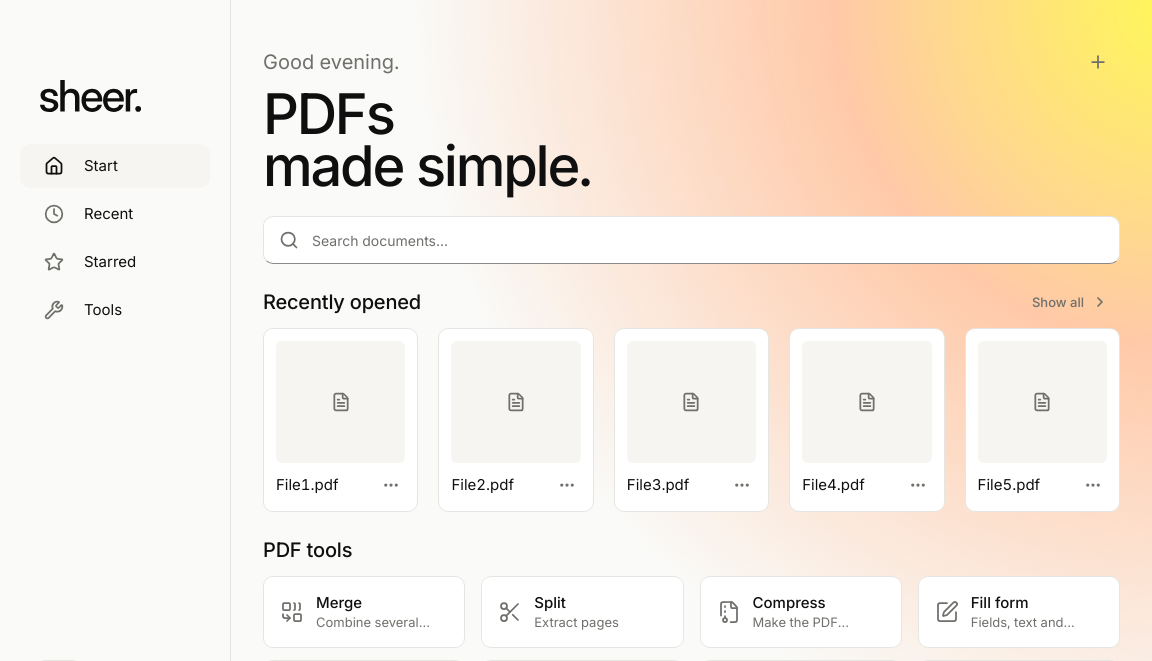
Test: Home › the Recent view lists every stored file, not only the first row
Check: the button "File1.pdf" is shown, box left=264, top=329, right=417, bottom=511
Click the button "Recent".
click(115, 214)  # box left=20, top=192, right=210, bottom=236
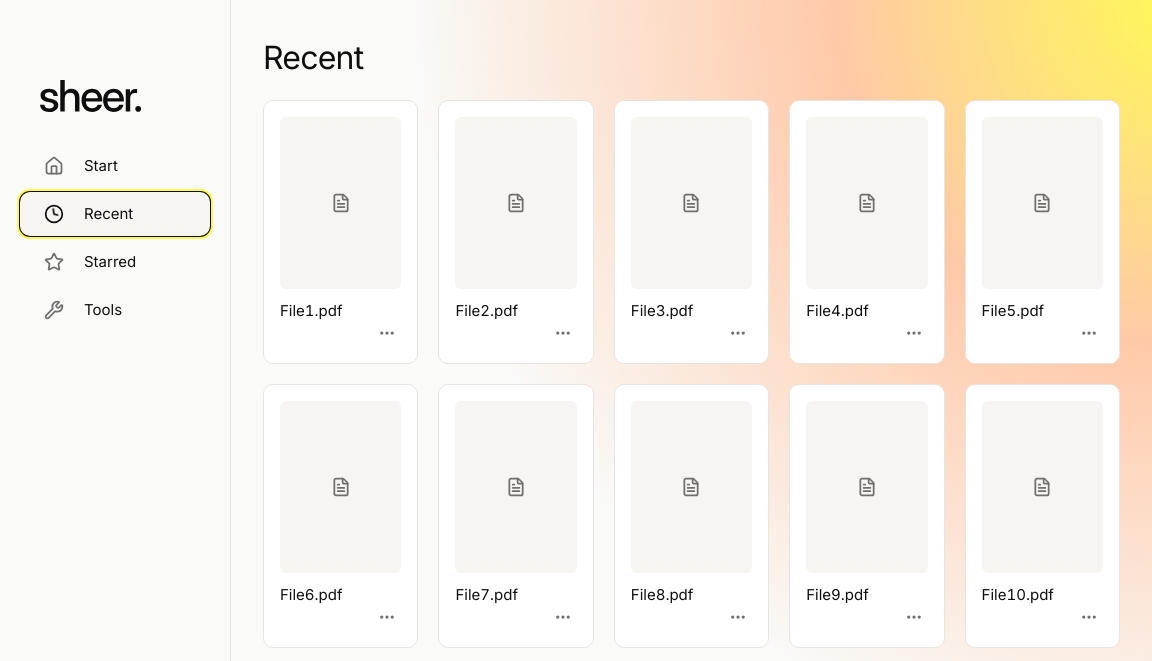
Check: the number of list items is 24
